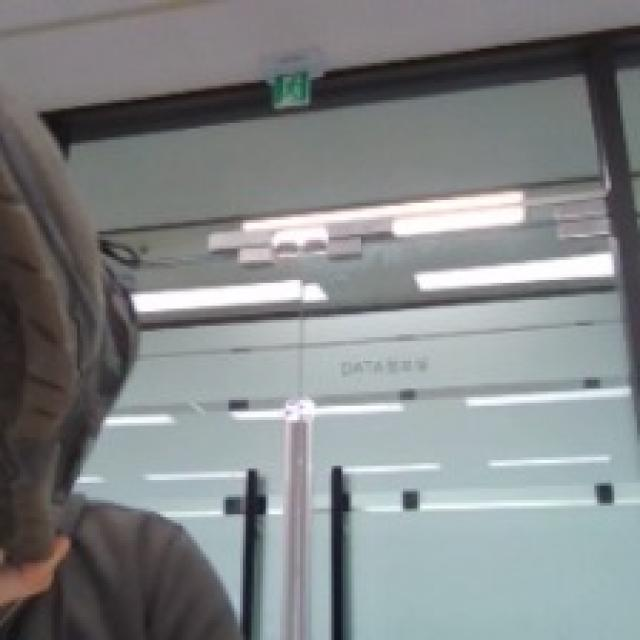shoe: (0, 59, 172, 562)
